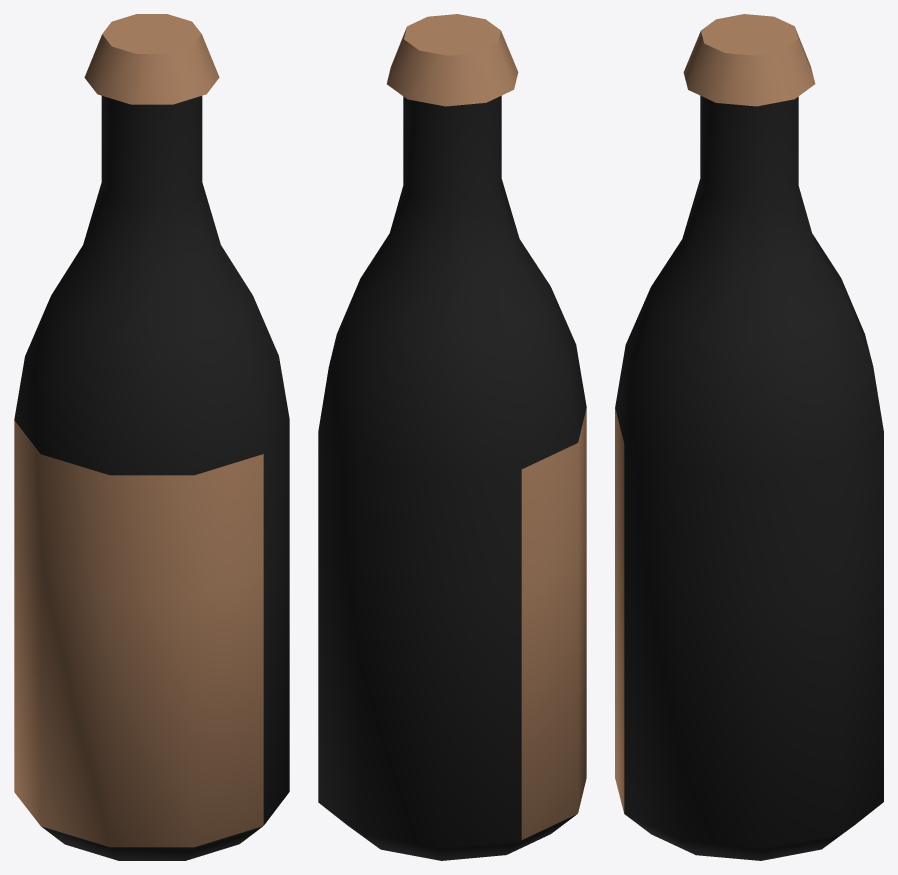
The model's file is Environment_Bottle.fbx.
3 views of the same model, side by side, from view 1: azimuth 30°, elevation 25°; view 2: azimuth 150°, elevation 25°; view 3: azimuth 270°, elevation 25° (orthographic).
Parts seen in each view (by area): view 1: Environment_Bottle; view 2: Environment_Bottle; view 3: Environment_Bottle.
Boxes of the visible parts, x1=… form: Environment_Bottle: x1=14, y1=14, x2=289, y2=860; Environment_Bottle: x1=318, y1=14, x2=586, y2=860; Environment_Bottle: x1=615, y1=14, x2=883, y2=860.
Bounding box in the file's own units: 30.86 × 97.4 × 30.38.
